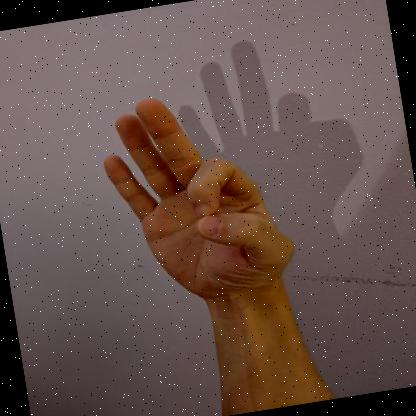F: (103, 98, 294, 303)
